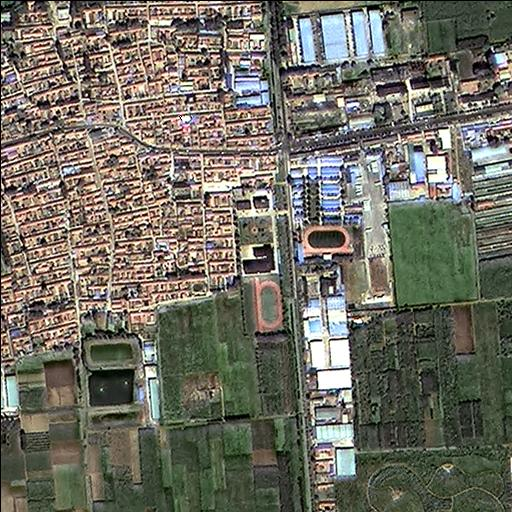school: (232, 193, 287, 333), (287, 152, 354, 259)
